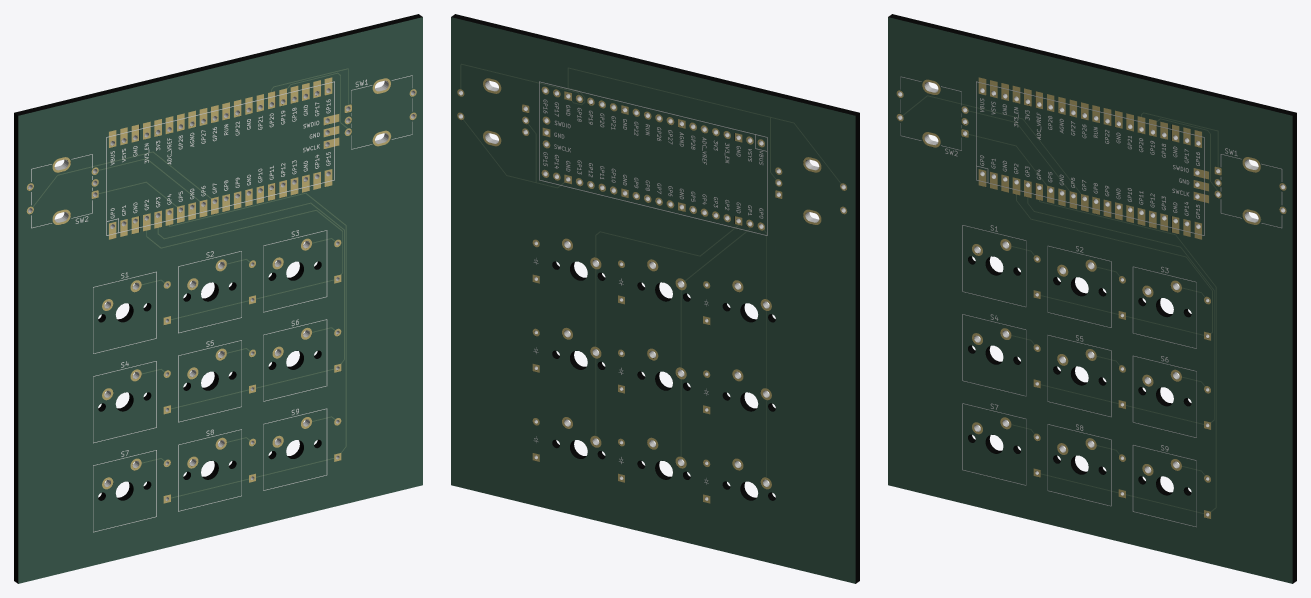
Rendered from macro.glb.
3 renders of one model, left to right at view 1: azimuth 30°, elevation 25°; view 2: azimuth 150°, elevation 25°; view 3: azimuth 330°, elevation 25°, orthographic.
Visible parts, largest first — view 1: Shape (×5); view 2: Shape (×5); view 3: Shape (×5).
Boxes of the visible parts, x1,y1,x2,y2 form: Shape (×5): [14, 14, 422, 583]; Shape (×5): [451, 14, 859, 583]; Shape (×5): [888, 14, 1296, 583].
Bounding box in the file's own units: 0.0905 × 0.1 × 0.00175.
